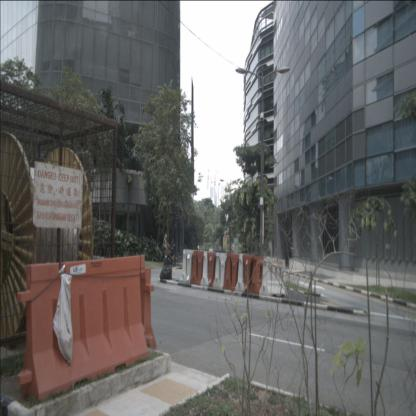barrier: (18, 254, 146, 401), (122, 266, 158, 349), (258, 257, 288, 298), (249, 255, 279, 295), (229, 251, 240, 292), (217, 252, 229, 289), (242, 254, 253, 293), (234, 254, 245, 293), (223, 253, 233, 290), (200, 251, 210, 287), (212, 252, 222, 288), (185, 249, 194, 285), (207, 252, 216, 288), (190, 250, 199, 285), (180, 249, 189, 283), (196, 251, 204, 284)
